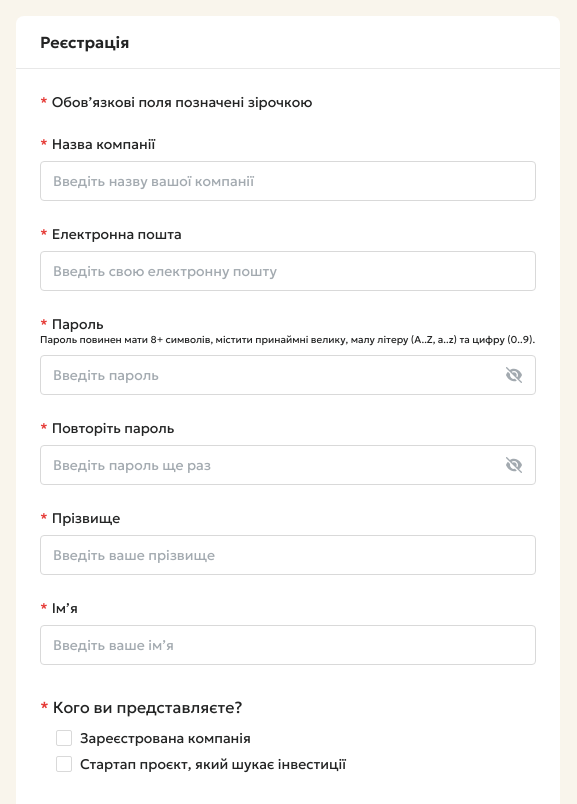
Test: Register page › reports a password that breaks the rules
Type "craft-2026" into the password field labelled "Пароль". click: (288, 375)
box: [40,355,536,395]
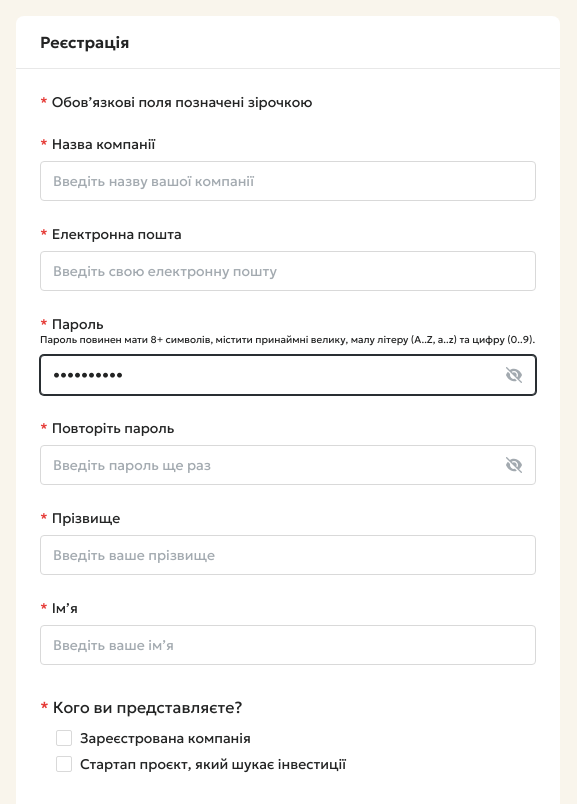
Press Tab
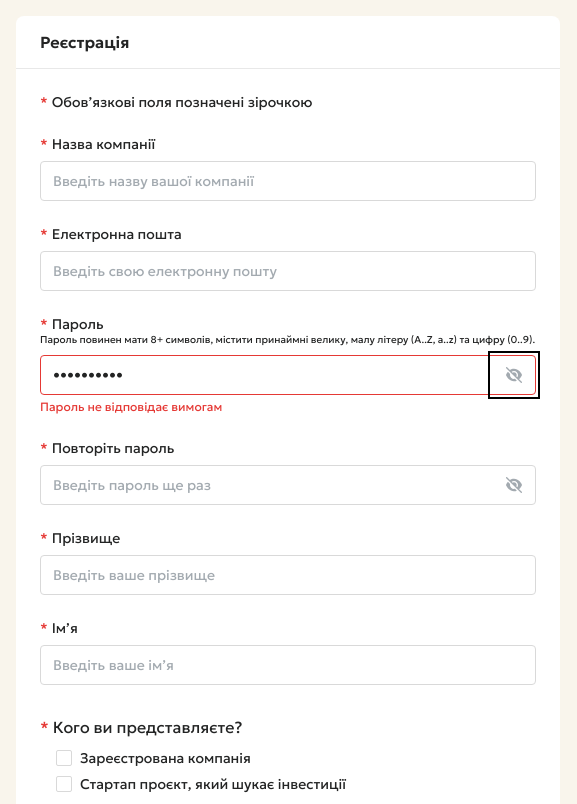
Now the text "Пароль не відповідає вимогам" is shown, box [40,399,222,414]
